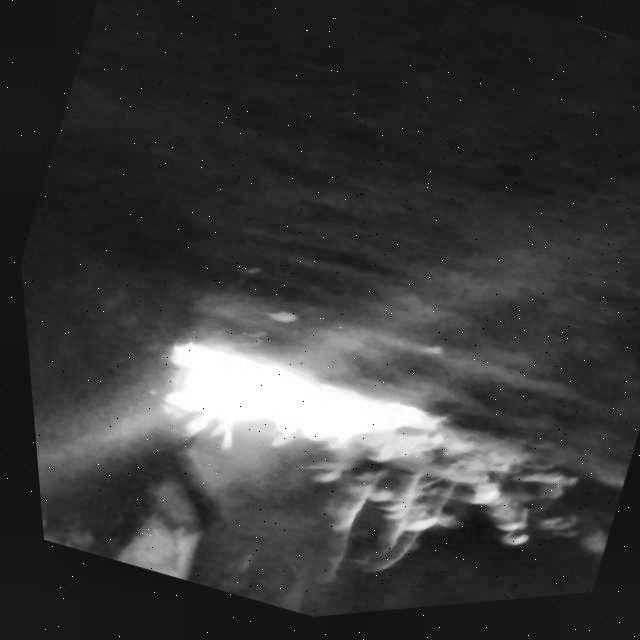Fire: (131, 317, 437, 529)
